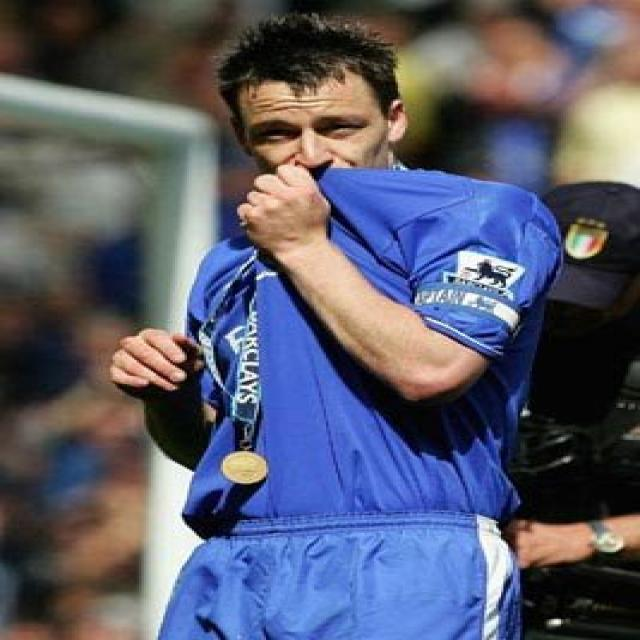nomask: (244, 74, 378, 198)
